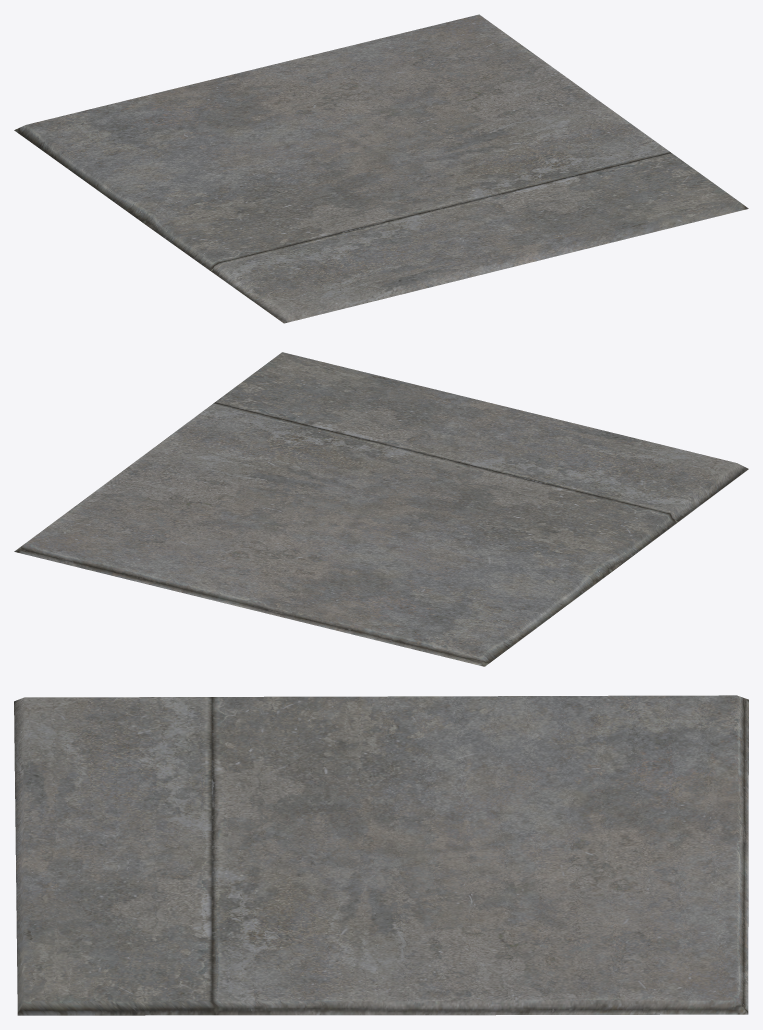
File: SM_Sidewalk_01.fbx
3 renders of one model, top to bottom at view 1: azimuth 30°, elevation 25°; view 2: azimuth 150°, elevation 25°; view 3: azimuth 270°, elevation 25°, orthographic. The views are drawn at different scales.
Parts seen in each view (by area): view 1: SM_Sidewalk_01; view 2: SM_Sidewalk_01; view 3: SM_Sidewalk_01.
Boxes of the visible parts, x1,y1,x2,y2 form: SM_Sidewalk_01: [14, 14, 748, 323]; SM_Sidewalk_01: [14, 352, 748, 666]; SM_Sidewalk_01: [14, 695, 748, 1015].
Size of the model in its own units: 122 by 120 by 1.81.
Materials: 2 (2 with a texture image).
